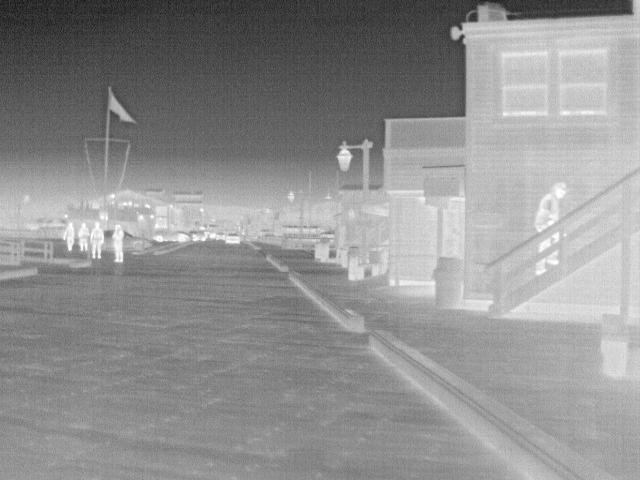car: (122, 230, 153, 251), (150, 228, 190, 243), (186, 228, 207, 242), (223, 232, 242, 244)
person: (533, 180, 568, 235), (90, 220, 107, 262), (111, 224, 128, 264), (77, 220, 91, 252), (64, 221, 77, 254)
